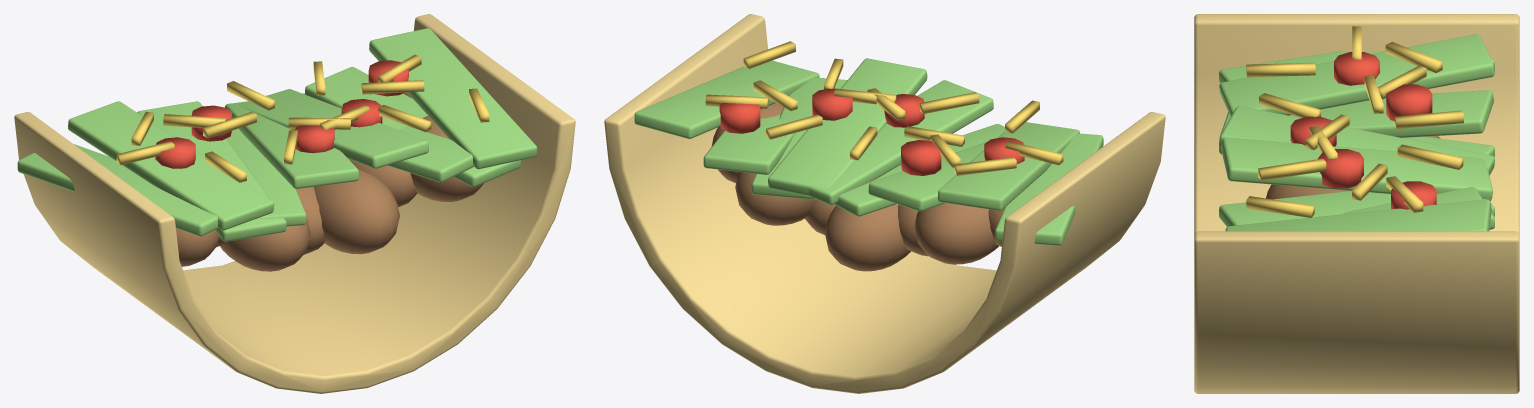
File: SM_Taco.glb
The picture shows the model from 3 angles, left to right: view 1: azimuth 30°, elevation 25°; view 2: azimuth 150°, elevation 25°; view 3: azimuth 270°, elevation 25°; orthographic projection. The views are drawn at different scales.
Parts seen in each view (by area): view 1: SM_Taco; view 2: SM_Taco; view 3: SM_Taco.
Boxes of the visible parts, bbox=[...] form: SM_Taco: bbox=[14, 14, 575, 393]; SM_Taco: bbox=[604, 14, 1165, 393]; SM_Taco: bbox=[1194, 14, 1519, 393].
Size of the model in its own units: 0.146 by 0.0712 by 0.085.
